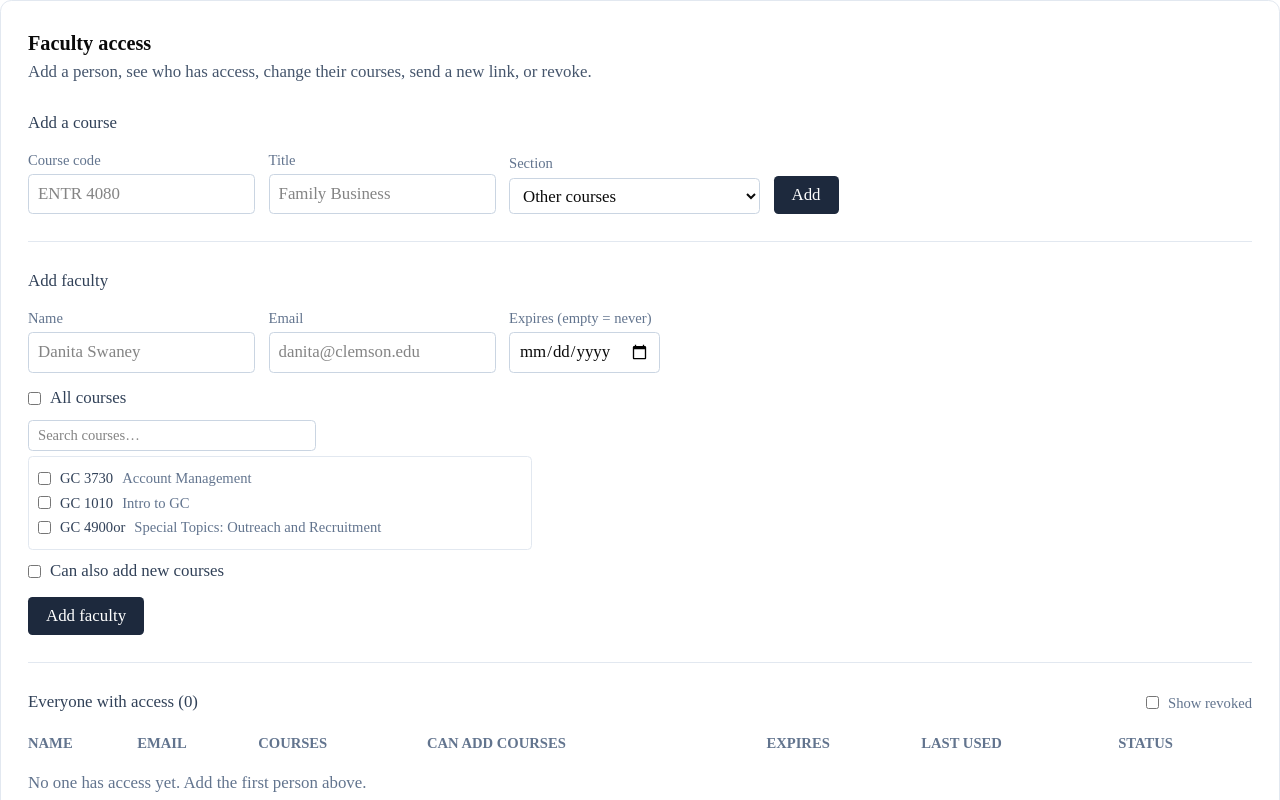
Test case: AccessPanel › Add a course: a catalog code shows the catalog title read-only and Add creates it with that title (access-panel addendum)
Type "econ 2120" into the field labelled "Course code" at (142, 194), box [28, 174, 255, 214]
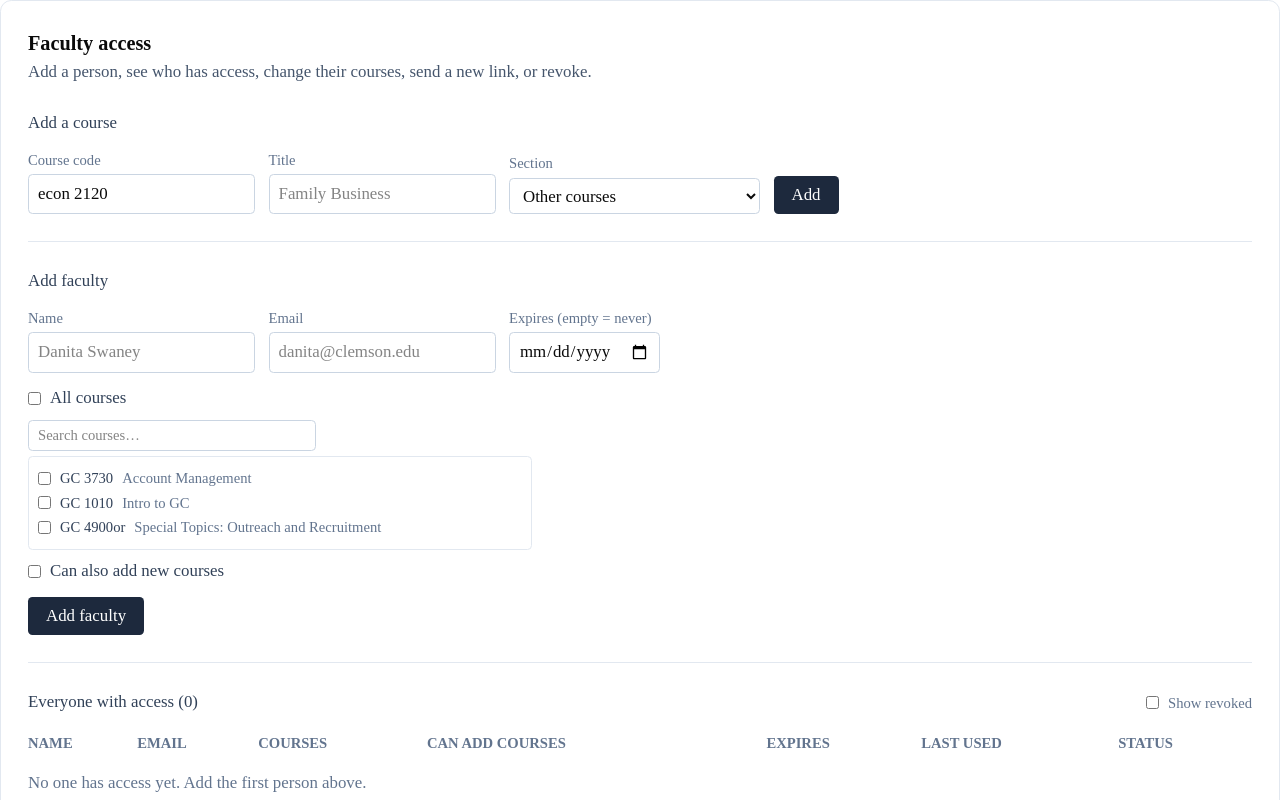
Leave the field labelled "Course code", box [28, 174, 255, 214]
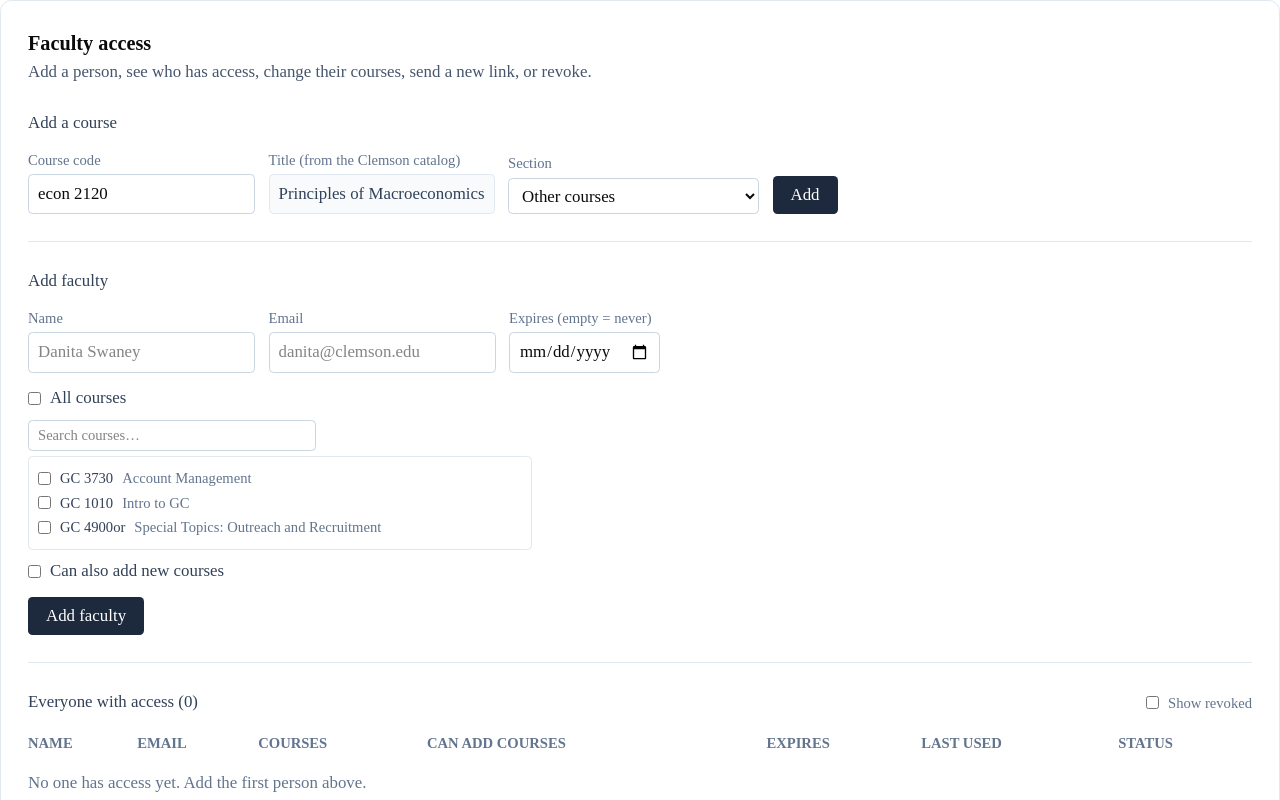
Check: the text "Principles of Macroeconomics" is shown, box [268, 174, 494, 214]
Click the button "Add" at (805, 195), box [772, 176, 838, 214]
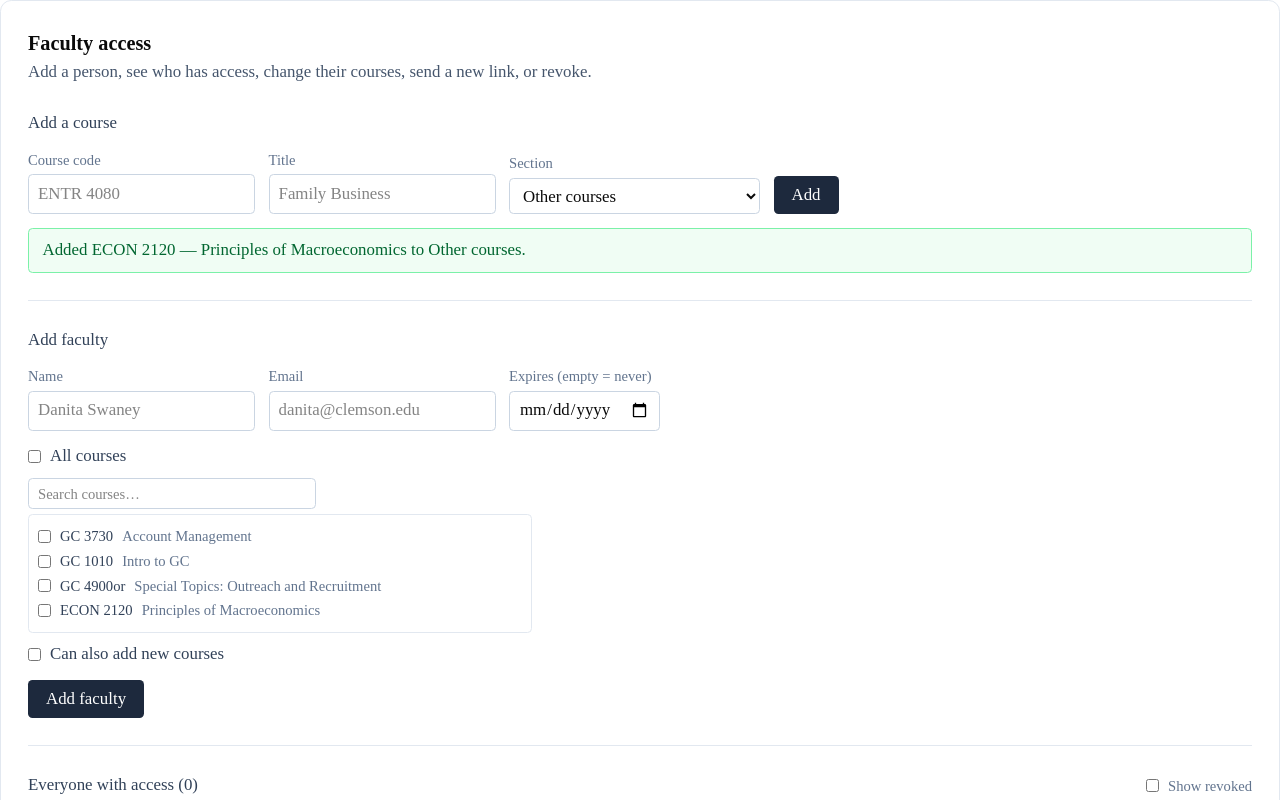
Check: the text "Added ECON 2120 — Principles of Macroeconomics to Other courses" is shown, box [42, 240, 526, 259]
